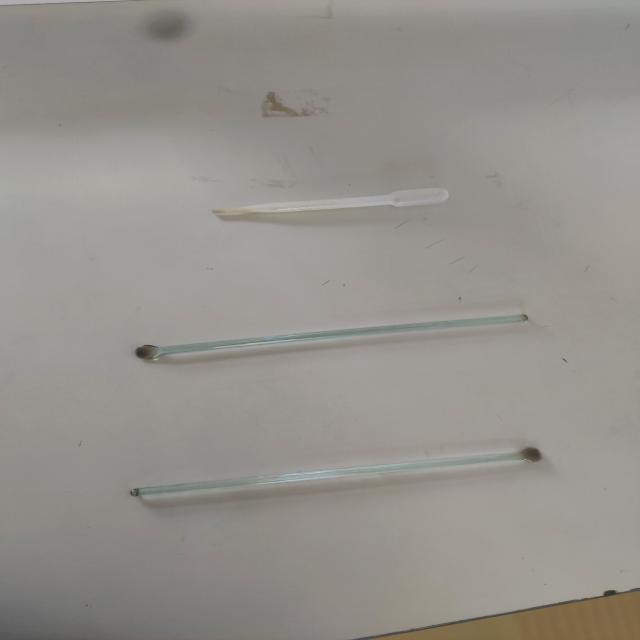Glass_Rod: (101, 426, 587, 527), (99, 292, 582, 388)
Pipette: (188, 160, 483, 233)
